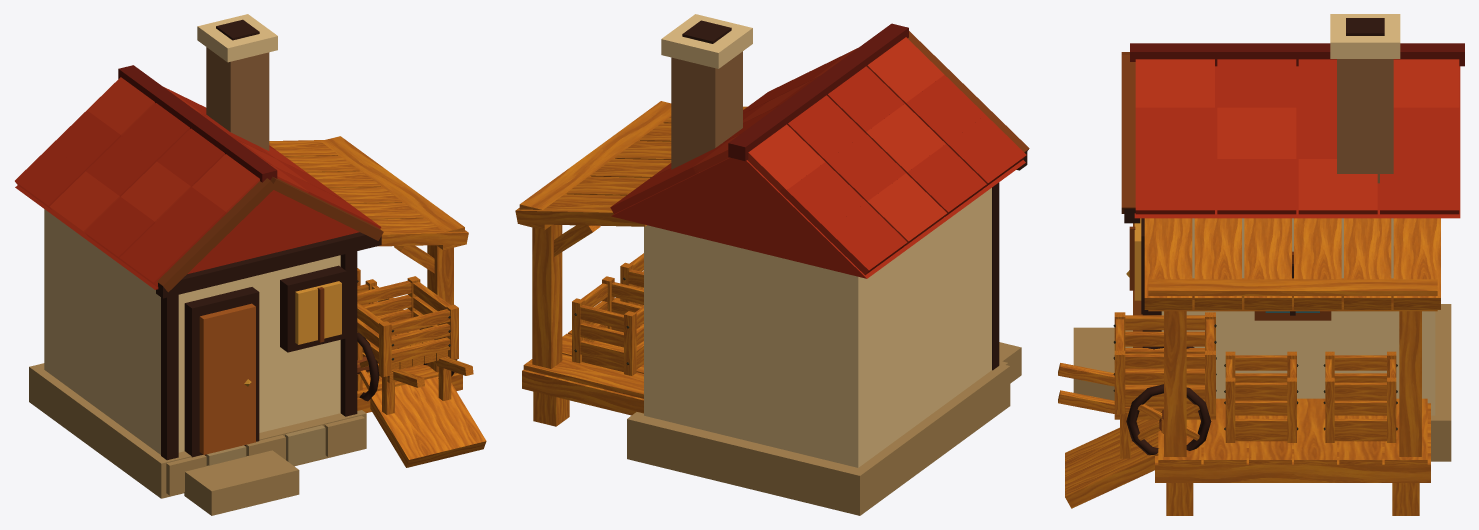
The model's file is warehouse-transport.obj.
3 views of the same model, side by side, from view 1: azimuth 30°, elevation 25°; view 2: azimuth 150°, elevation 25°; view 3: azimuth 270°, elevation 25° (orthographic). The views are drawn at different scales.
Visible parts, largest first — view 1: warehouse-transport; view 2: warehouse-transport; view 3: warehouse-transport.
Part boxes in pixels (bbox=[...]): warehouse-transport: bbox=[15, 14, 486, 515]; warehouse-transport: bbox=[515, 14, 1029, 515]; warehouse-transport: bbox=[1058, 14, 1464, 515].
Size of the model in its own units: 1.9 by 2.03 by 1.8.
2 materials, 2 textured.
